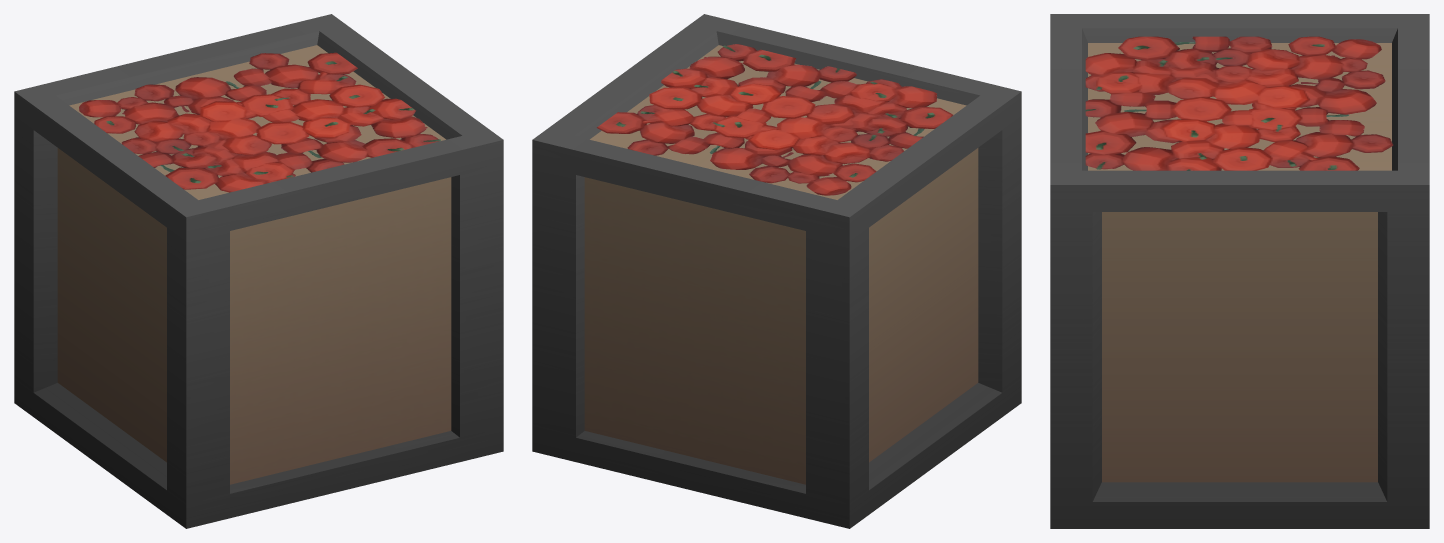
Rendered from ItemProps_AppleBox.fbx.
3 views of the same model, side by side, from view 1: azimuth 30°, elevation 25°; view 2: azimuth 150°, elevation 25°; view 3: azimuth 270°, elevation 25° (orthographic). The views are drawn at different scales.
Visible parts, largest first — view 1: Cube.003, Cube.002, Cube.004; view 2: Cube.003, Cube.002, Cube.004; view 3: Cube.003, Cube.002, Cube.004.
Part boxes in pixels (box(x1,y1,x2,y2)): Cube.003: box(14, 14, 503, 528); Cube.002: box(57, 45, 451, 484); Cube.004: box(79, 52, 440, 192); Cube.003: box(532, 14, 1021, 528); Cube.002: box(584, 45, 978, 484); Cube.004: box(596, 44, 953, 195); Cube.003: box(1050, 14, 1429, 528); Cube.002: box(1088, 43, 1391, 482); Cube.004: box(1085, 36, 1392, 170).
Size of the model in its own units: 191 by 179 by 179.
